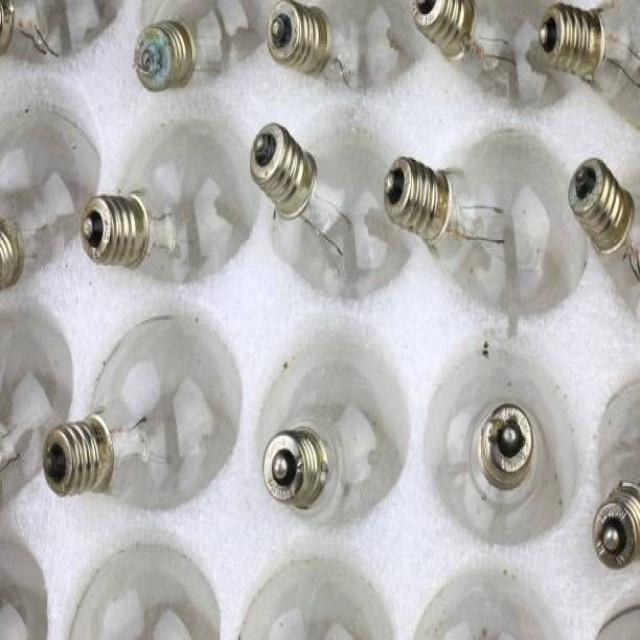electronic: (41, 313, 242, 512), (249, 119, 356, 276), (382, 154, 504, 252), (80, 188, 176, 270), (266, 0, 332, 77), (132, 17, 196, 91), (410, 0, 476, 61), (0, 0, 14, 53)
